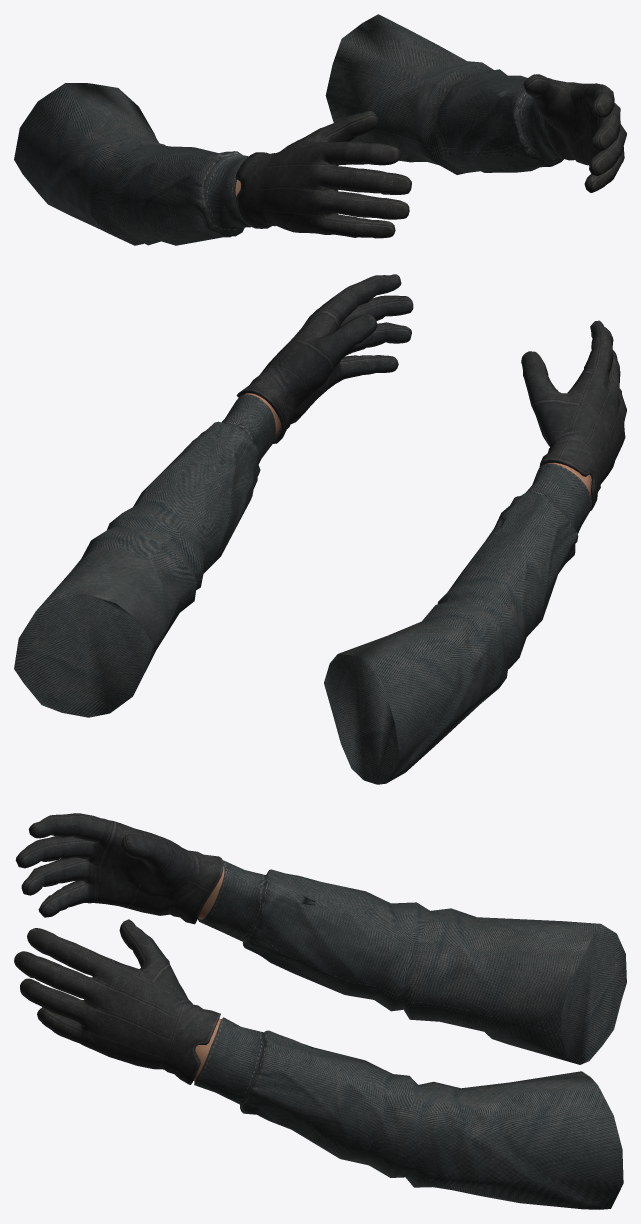
Rendered from arms.glb.
3 renders of one model, top to bottom at view 1: azimuth 30°, elevation 25°; view 2: azimuth 150°, elevation 25°; view 3: azimuth 270°, elevation 25°, orthographic. The views are drawn at different scales.
Visible parts, largest first — view 1: arm; view 2: arm; view 3: arm.
Part boxes in pixels (x1,y1,x2,y2): arm: (14, 14, 626, 245); arm: (14, 274, 626, 784); arm: (14, 813, 626, 1209).
Bounding box in the file's own units: 0.589 × 0.3512 × 0.7406.
1 material, 1 textured.
